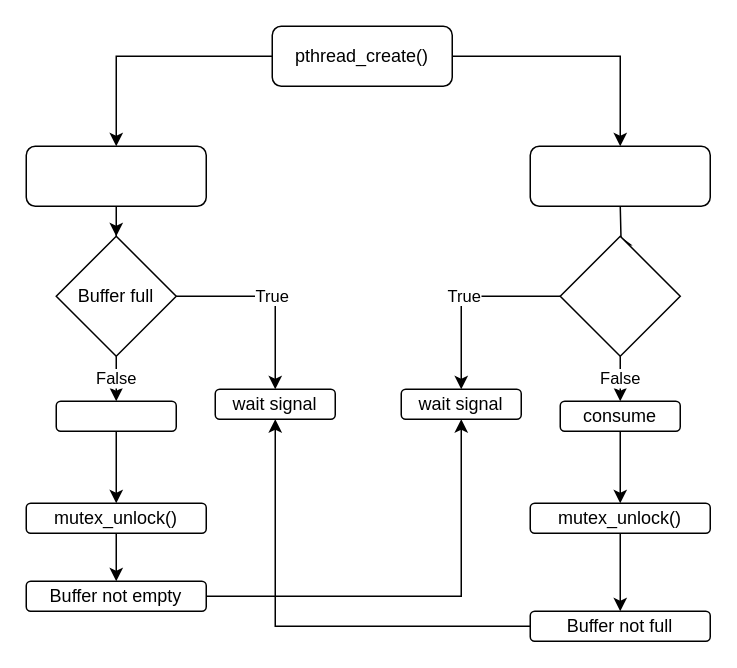
The diagram is 737 pixels wide and 668 high, and some of its shapes have lost their labels. Here are the shapes that lost their labels. From the top down, the centre of each, then its label:
point 115,175: producer
point 619,175: consumer
point 619,295: Buffer empty
point 115,415: produce
